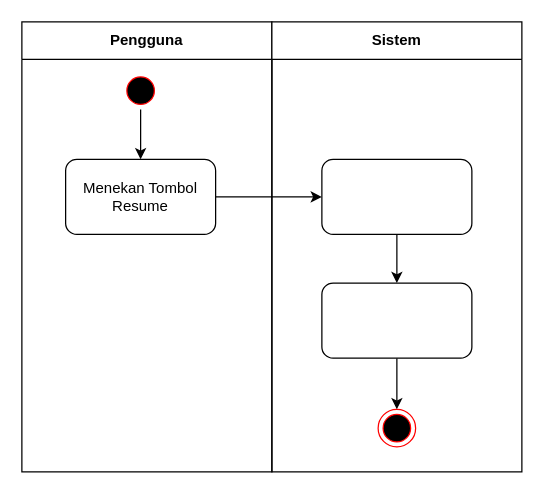
This 544x494 diagram has some shape labels left out. Here are the shapes that lost their labels. From the top down, the centre of each, then its label:
At pixel 396 196: "Menutup Panel Pause".
At pixel 396 320: "Melanjutkan Game".
